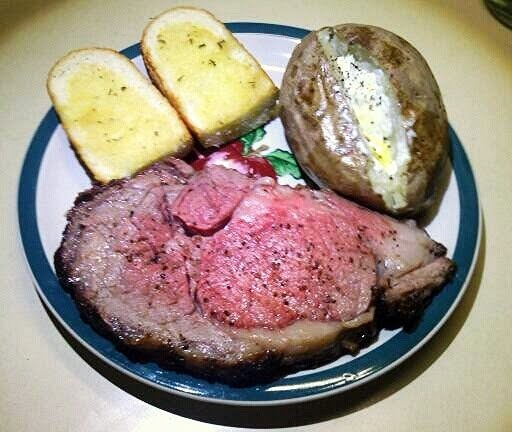background: (38, 4, 382, 262)
